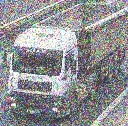truck: (8, 3, 127, 119)
